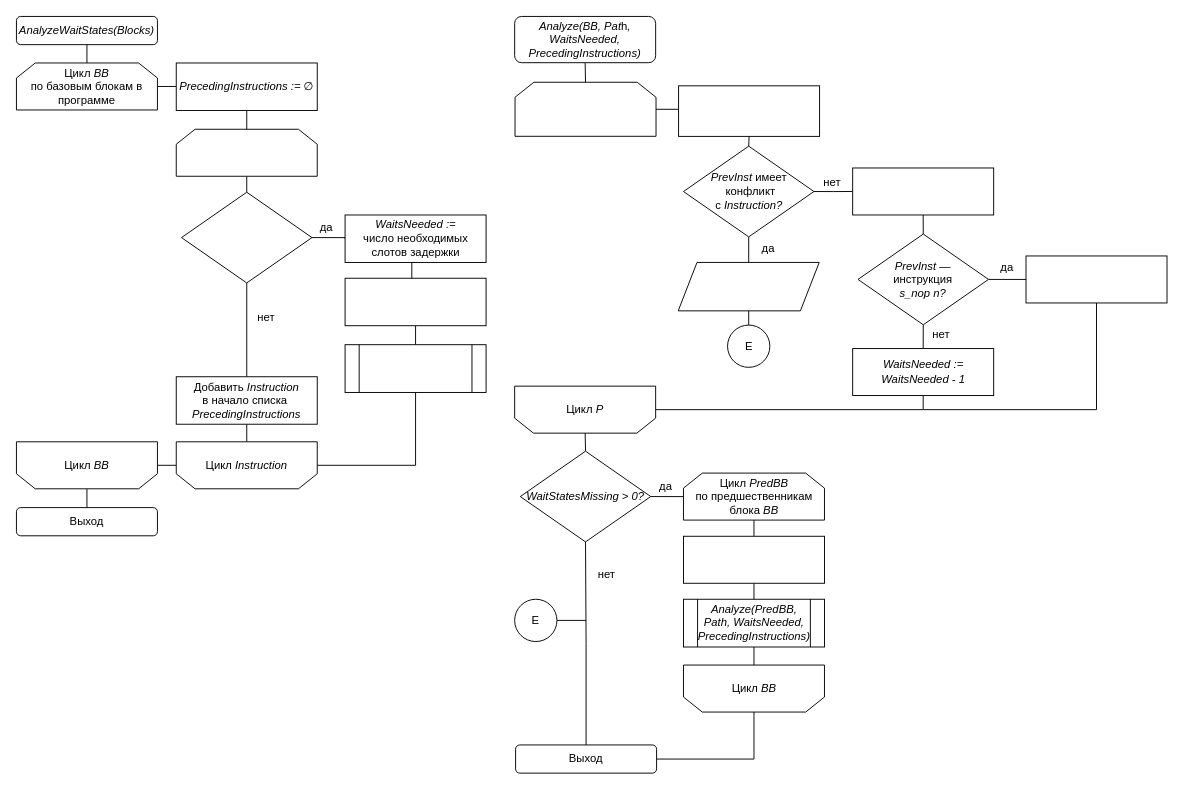
Some shapes in this 1183 by 790 pixel diagram are drawn without their labels. The centre of each missing label's shape, as x and y in pixels:
"Analyze(BB, Path, WaitsNeeded, PrecedingInstructions)" goes at point 415,368.
"Instruction может зависеть от предшествующией инструкции?" goes at point 246,237.
"Path := {Instruction}" goes at point 415,301.
"PrecedingInstructions := список инструкций в BB в обратном порядке" goes at point 753,559.
"PrevInst := удалить элемент из PrecedingInstructions" goes at point 749,110.
"WaitsNeeded := WaitsNeeded - (1 + n)" goes at point 1096,279.
"Добавить PrevInst в конец Path" goes at point 923,191.
"Сообщить PathToInstruction и WaitStatesMissing" goes at point 748,286.
"Цикл Instruction по инструкциям в блоке BB" goes at point 246,152.
"Цикл P пока PrecedingInstructions ≠ ∅ и WaitsNeeded > 0" goes at point 585,108.
